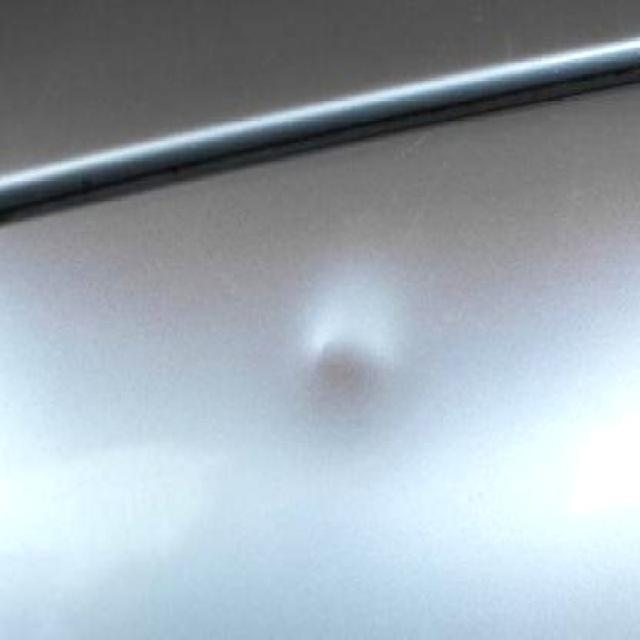dent: (283, 330, 385, 427)
